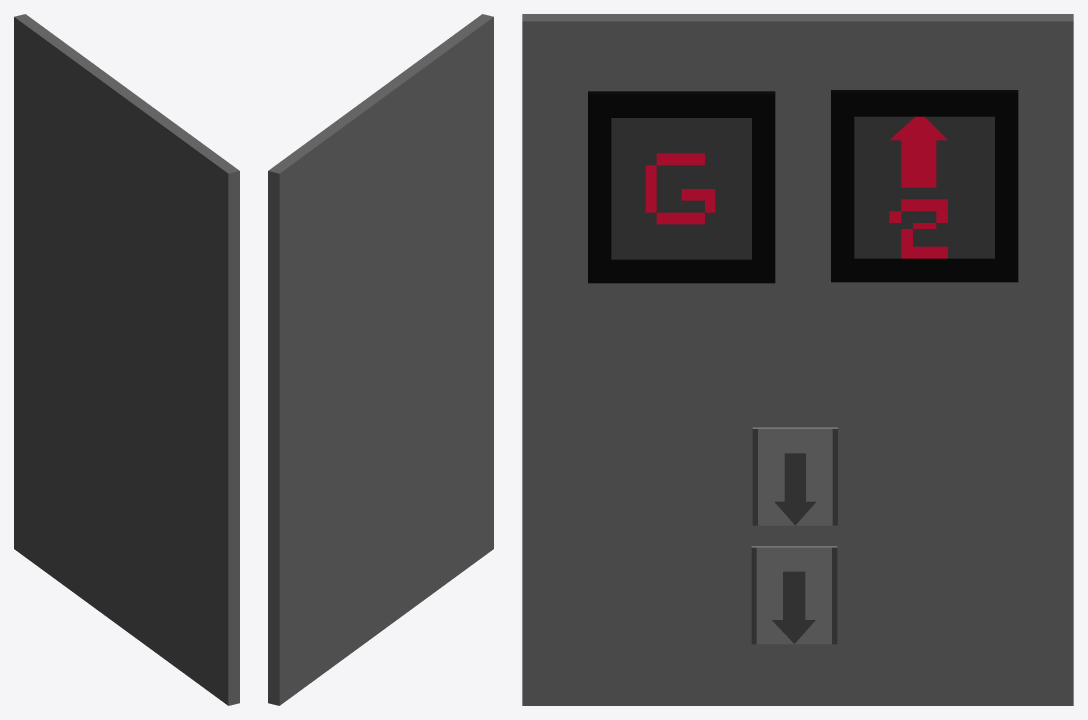
File: Elevator(buttons).fbx
3 views of the same model, side by side, from view 1: azimuth 30°, elevation 25°; view 2: azimuth 150°, elevation 25°; view 3: azimuth 270°, elevation 25° (orthographic). The views are drawn at different scales.
Visible parts, largest first — view 1: 1-removebg-preview(1).002; view 2: 1-removebg-preview(1).002; view 3: 1-removebg-preview(1).002.
Boxes of the visible parts, x1,y1,x2,y2 form: 1-removebg-preview(1).002: [14, 14, 239, 705]; 1-removebg-preview(1).002: [268, 14, 493, 705]; 1-removebg-preview(1).002: [522, 14, 1073, 705].
Size of the model in its own units: 15.84 by 502 by 366.
